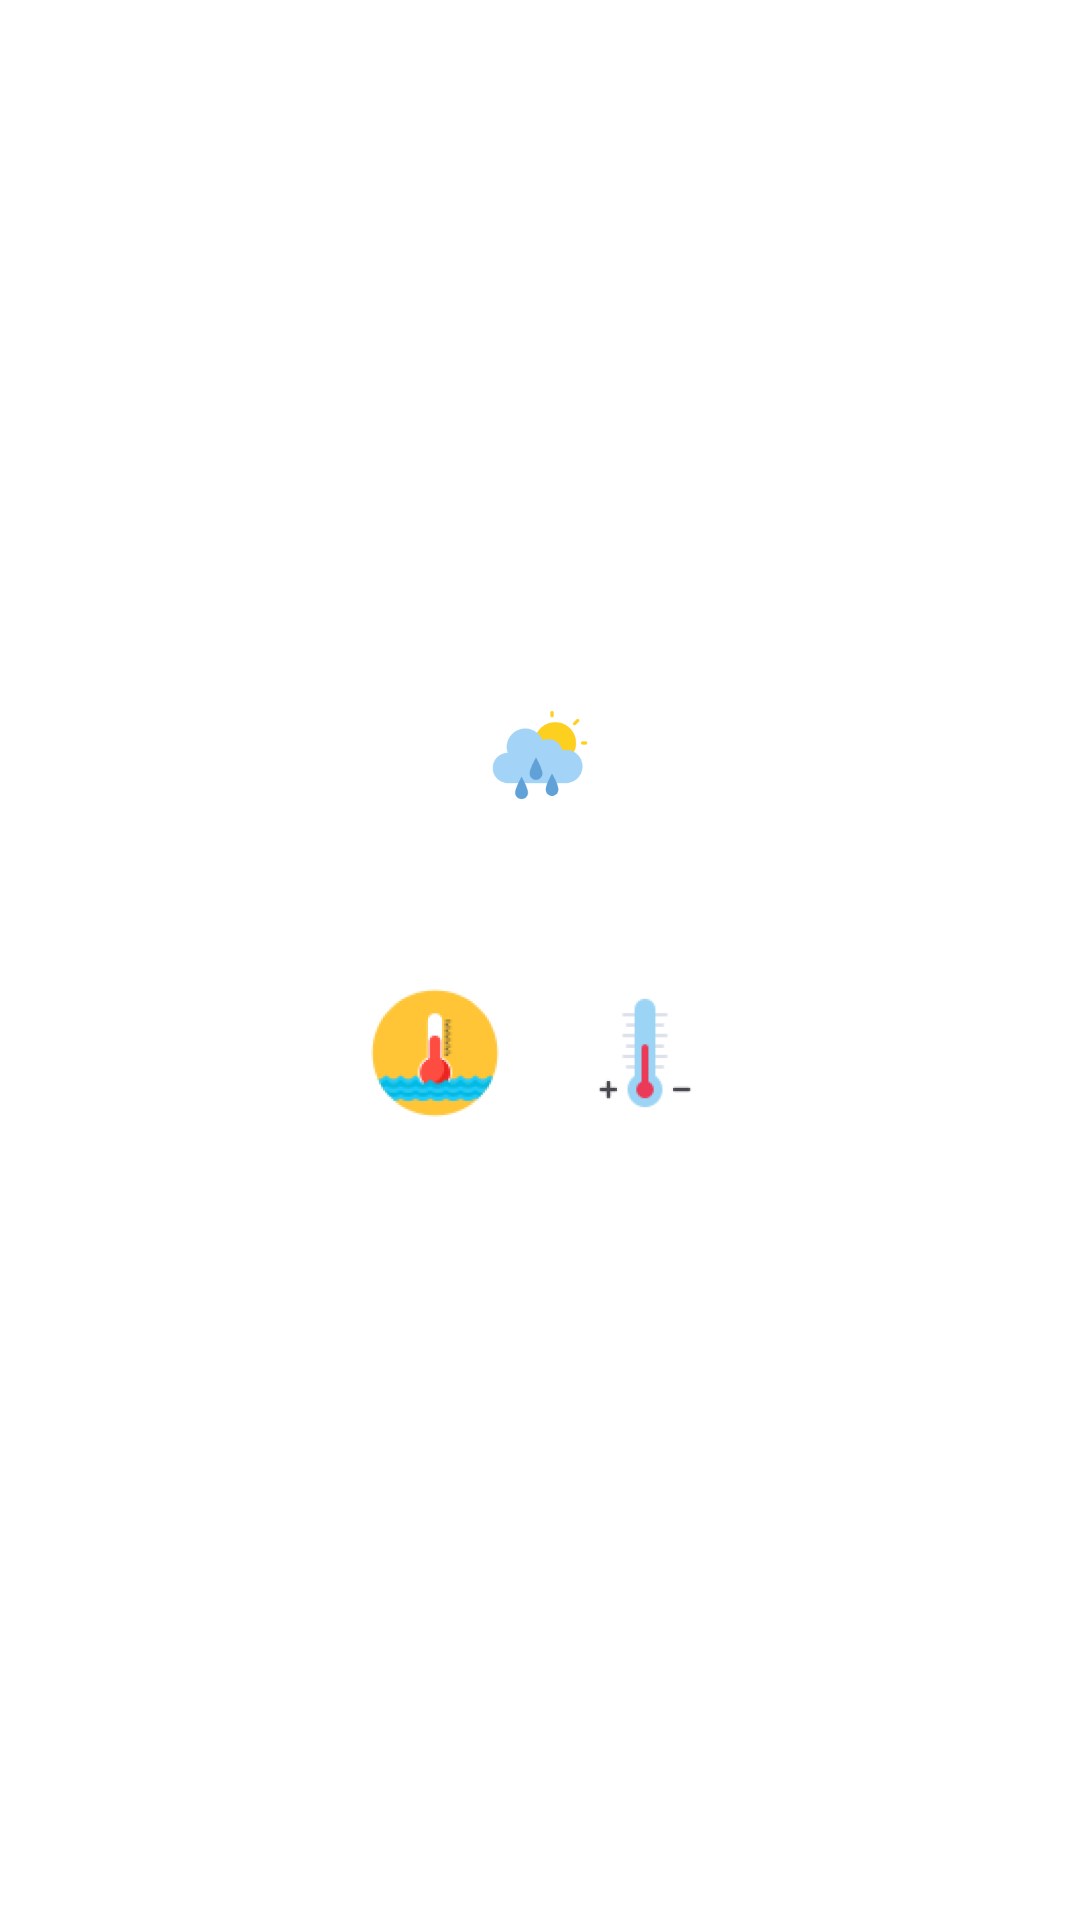

Icons on this 1080w x 1920h Android screen, each with its box as (x1, y1, x2, y2):
cloudy: (493, 711, 588, 799)
water: (371, 989, 499, 1117)
